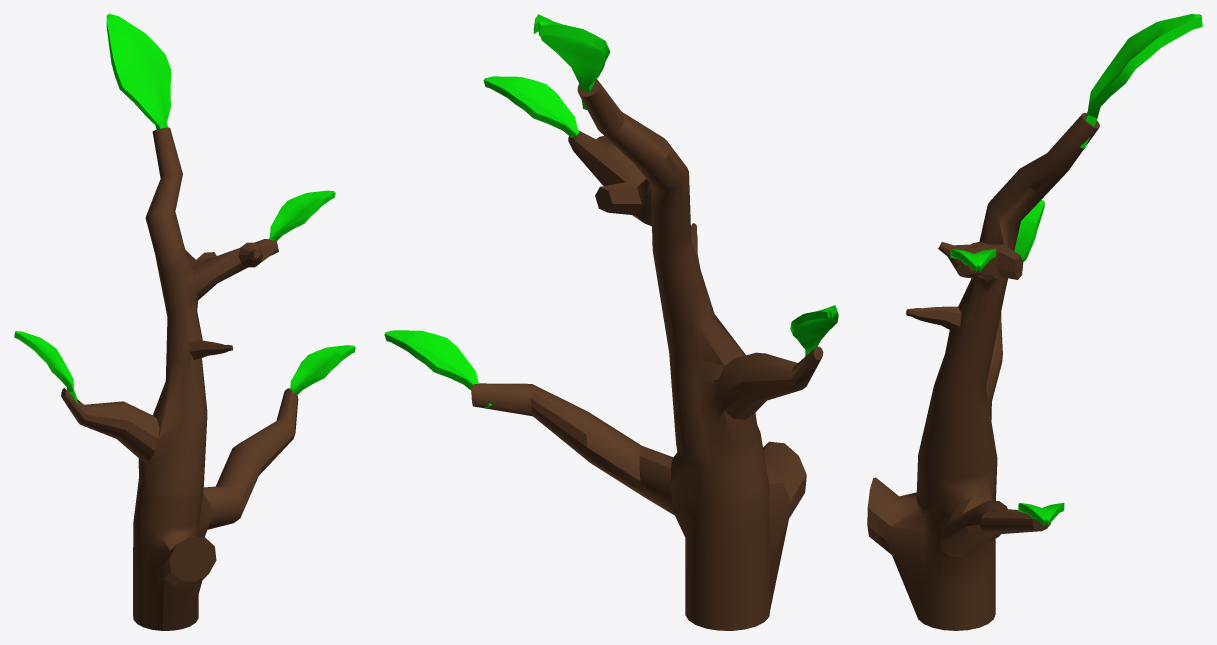
The model's file is rama.fbx.
The picture shows the model from 3 angles, left to right: view 1: azimuth 30°, elevation 25°; view 2: azimuth 150°, elevation 25°; view 3: azimuth 270°, elevation 25°; orthographic projection. The views are drawn at different scales.
Visible parts, largest first — view 1: pCylinder3; view 2: pCylinder3; view 3: pCylinder3.
Boxes of the visible parts, box(x1,y1,x2,y2) form: pCylinder3: box(14, 14, 355, 630); pCylinder3: box(384, 14, 838, 630); pCylinder3: box(867, 14, 1202, 630).
Bounding box in the file's own units: 213 × 308 × 149.
